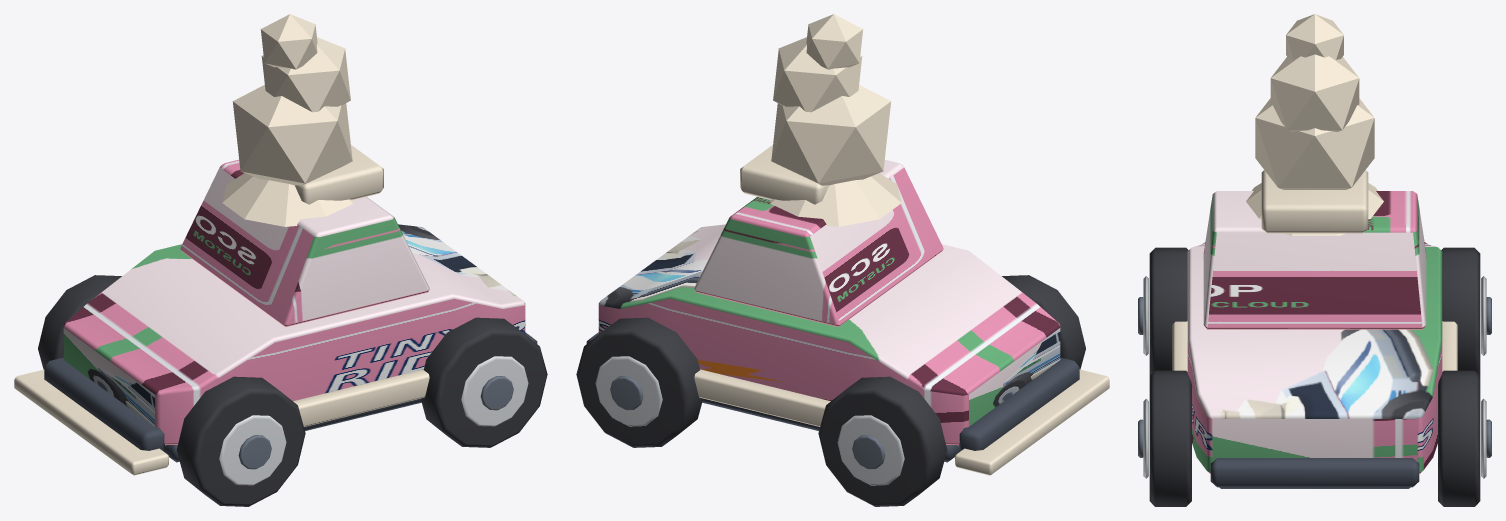
The picture shows the model from 3 angles, left to right: view 1: azimuth 30°, elevation 25°; view 2: azimuth 150°, elevation 25°; view 3: azimuth 270°, elevation 25°; orthographic projection. The views are drawn at different scales.
Parts seen in each view (by area): view 1: SS-01_connected_shell, SS-01_cabin, Tire, Tire.002, ice cream swirl 1, custom chin, ice cream swirl 2, ice cream base, front bumper, custom side guard, Rim, Rim.002 (+6 smaller); view 2: SS-01_connected_shell, SS-01_cabin, Tire.001, Tire.003, ice cream swirl 1, custom chin, ice cream swirl 2, ice cream base, front bumper, custom side guard.001, Rim.001, Rim.003 (+6 smaller); view 3: SS-01_connected_shell, SS-01_cabin, ice cream swirl 1, rear bumper, ice cream swirl 2, Tire.002, Tire.003, custom equipment, Tire, Tire.001, ice cream swirl 3, ice cream base (+6 smaller).
Boxes of the visible parts, x1,y1,x2,y2 form: SS-01_connected_shell: [63, 224, 525, 445]; SS-01_cabin: [180, 159, 429, 326]; Tire: [176, 376, 305, 506]; Tire.002: [421, 317, 547, 447]; ice cream swirl 1: [232, 85, 352, 185]; custom chin: [14, 369, 168, 475]; ice cream swirl 2: [261, 37, 350, 112]; ice cream base: [222, 173, 354, 226]; front bumper: [44, 358, 164, 450]; custom side guard: [293, 369, 429, 426]; Rim: [219, 415, 286, 485]; Rim.002: [461, 356, 528, 426]; SS-01_connected_shell: [598, 224, 1060, 445]; SS-01_cabin: [694, 159, 943, 326]; Tire.001: [818, 376, 947, 506]; Tire.003: [576, 317, 702, 447]; ice cream swirl 1: [771, 85, 891, 185]; custom chin: [955, 369, 1109, 475]; ice cream swirl 2: [773, 37, 862, 112]; ice cream base: [769, 173, 901, 226]; front bumper: [959, 358, 1079, 450]; custom side guard.001: [694, 369, 830, 426]; Rim.001: [837, 415, 904, 485]; Rim.003: [595, 356, 662, 426]; SS-01_connected_shell: [1187, 242, 1442, 473]; SS-01_cabin: [1203, 191, 1426, 329]; ice cream swirl 1: [1255, 98, 1374, 189]; rear bumper: [1210, 458, 1419, 487]; ice cream swirl 2: [1270, 54, 1359, 131]; Tire.002: [1149, 370, 1191, 506]; Tire.003: [1438, 370, 1480, 506]; custom equipment: [1261, 170, 1368, 233]; Tire: [1149, 247, 1188, 375]; Tire.001: [1441, 247, 1480, 375]; ice cream swirl 3: [1286, 14, 1343, 59]; ice cream base: [1246, 183, 1383, 235].
Bounding box in the file's own units: 307 × 287 × 217.
